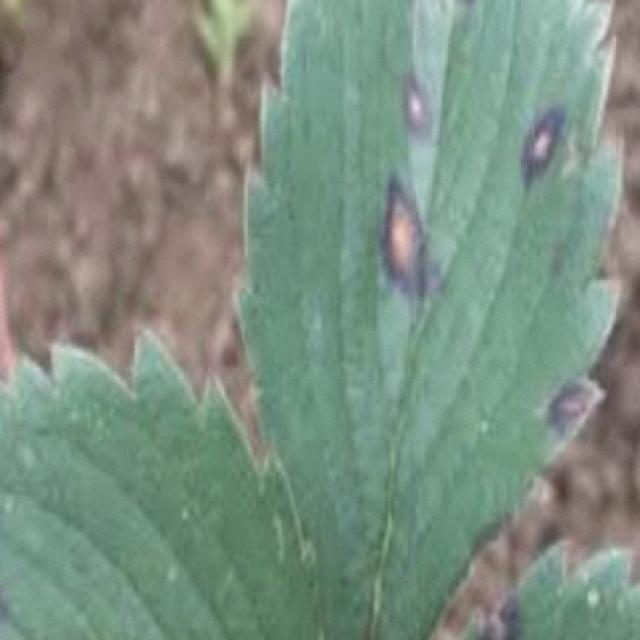Leaf Spot: (235, 0, 622, 640), (0, 322, 322, 640), (458, 535, 640, 640)
